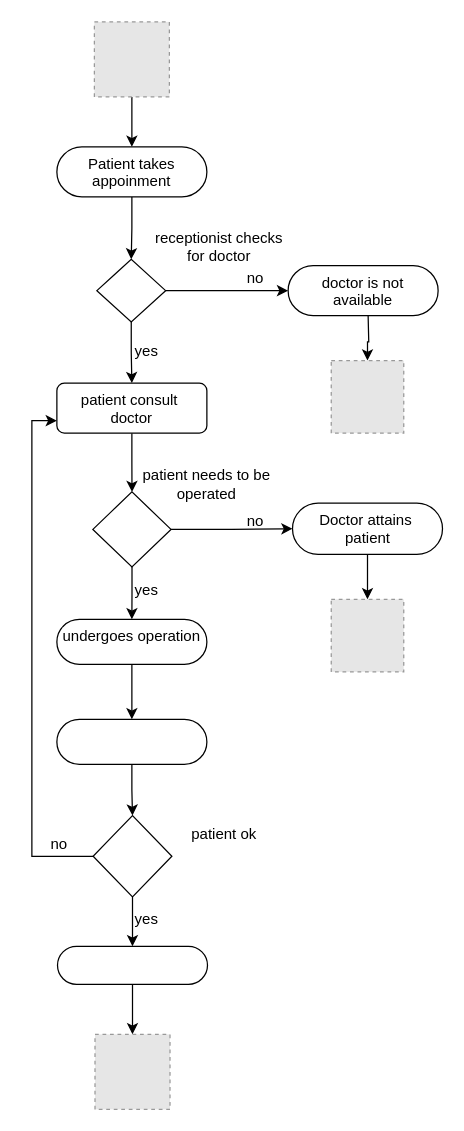
Some shapes in this 464 by 1131 pixel diagram are drawn without their labels. Grey dashed boxes stand in for pictures. The shapes that lost their labels are listed below. From the top down, each one's centre as x and y in pixels, then its label:
At pixel 131 741: "patient gets operated".
At pixel 132 964: "discharge".
